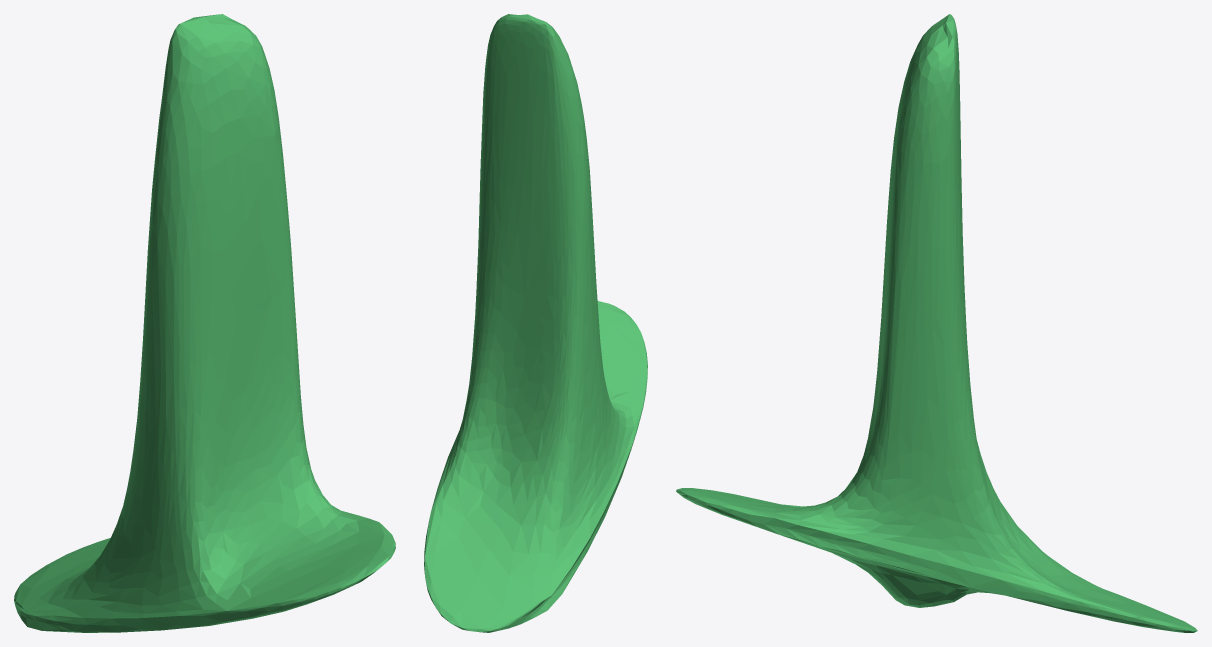
The picture shows the model from 3 angles, left to right: view 1: azimuth 30°, elevation 25°; view 2: azimuth 150°, elevation 25°; view 3: azimuth 270°, elevation 25°; orthographic projection. The views are drawn at different scales.
Visible parts, largest first — view 1: 731_Cube.2933; view 2: 731_Cube.2933; view 3: 731_Cube.2933.
Boxes of the visible parts, bbox=[...] form: 731_Cube.2933: bbox=[14, 14, 395, 632]; 731_Cube.2933: bbox=[424, 14, 647, 632]; 731_Cube.2933: bbox=[676, 14, 1197, 632].
Bounding box in the file's own units: 4.19 × 13.33 × 9.92.
